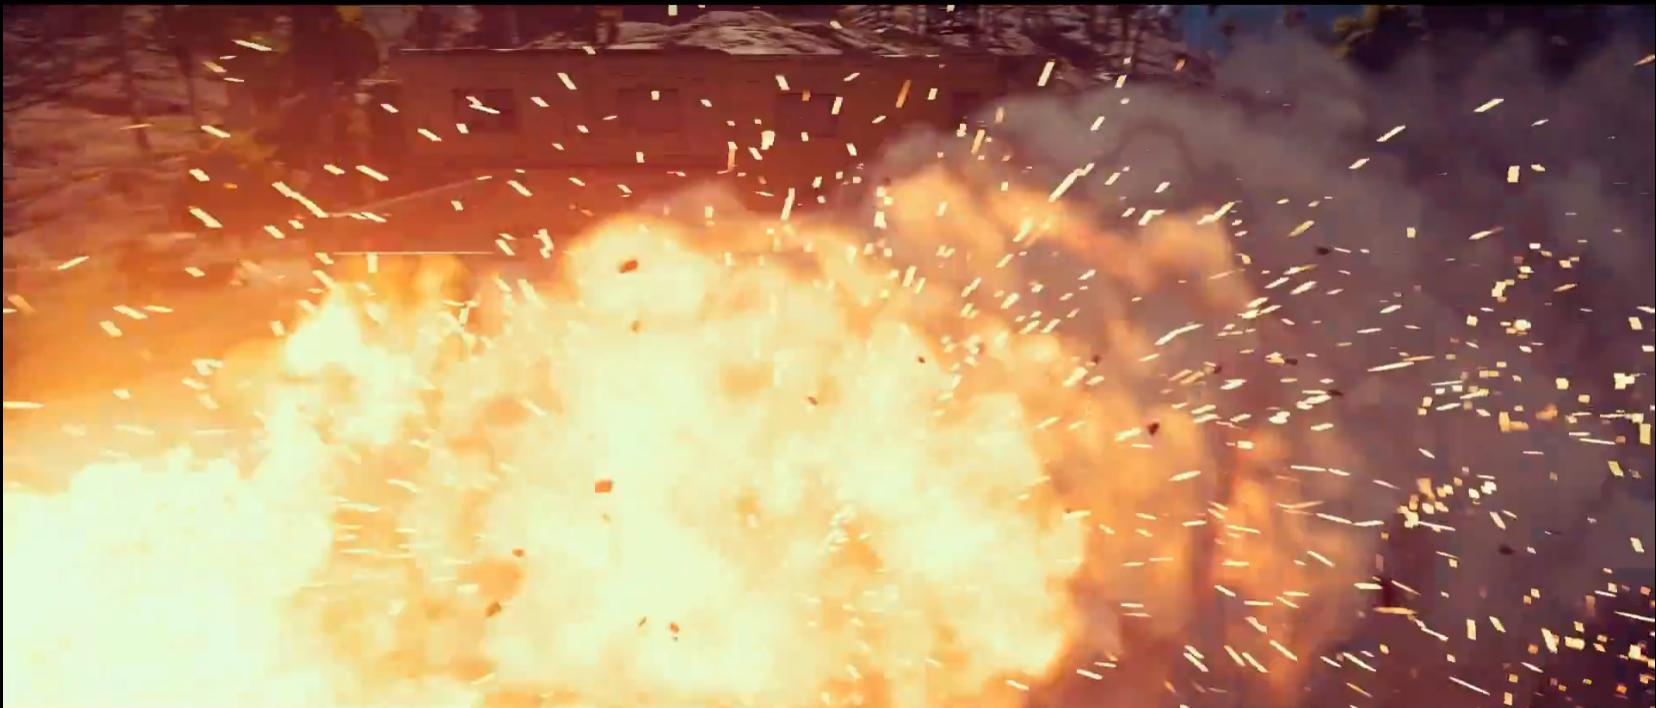fire: (5, 4, 1605, 708)
